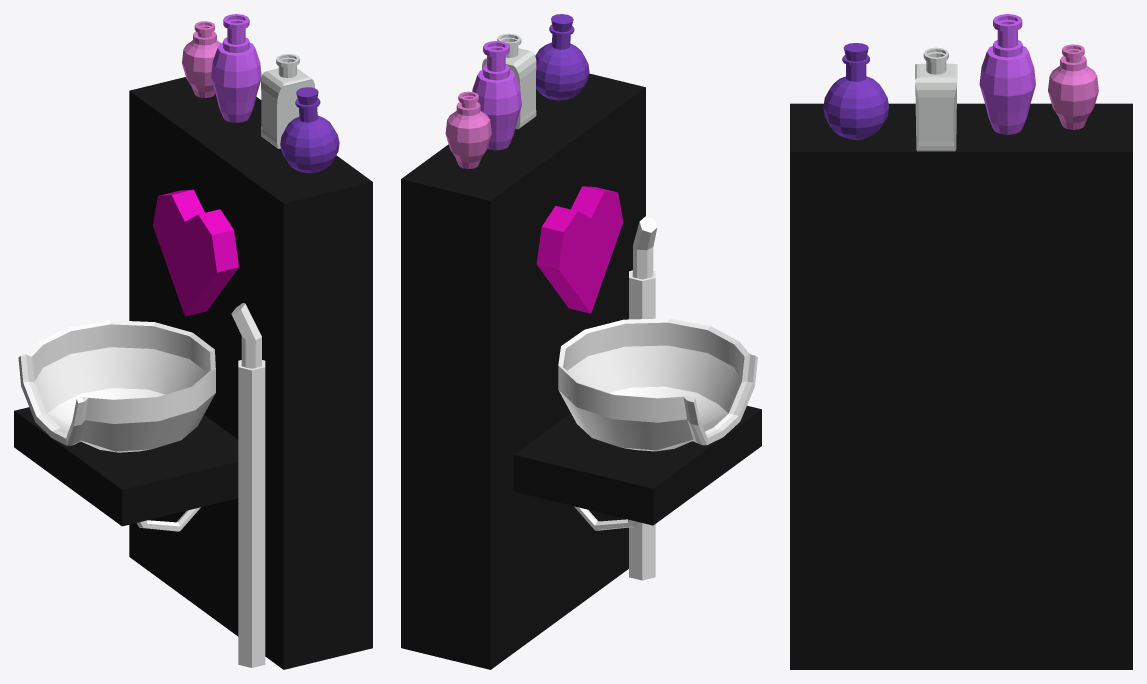
Rendered from MESA SHAMPOO.fbx.
The picture shows the model from 3 angles, left to right: view 1: azimuth 30°, elevation 25°; view 2: azimuth 150°, elevation 25°; view 3: azimuth 270°, elevation 25°; orthographic projection. The views are drawn at different scales.
Parts seen in each view (by area): view 1: PUESTO_DE_SHAMPOO, CORAZONES, BOTELLA 2, BOTELLA 4, BOTELLA 3, BOTELA 1; view 2: PUESTO_DE_SHAMPOO, CORAZONES, BOTELLA 2, BOTELLA 4, BOTELA 1, BOTELLA 3; view 3: PUESTO_DE_SHAMPOO, BOTELLA 2, BOTELLA 4, BOTELLA 3, BOTELA 1.
Part boxes in pixels (x1,y1,x2,y2): PUESTO_DE_SHAMPOO: (14, 77, 372, 669); CORAZONES: (153, 189, 238, 316); BOTELLA 2: (211, 14, 261, 122); BOTELLA 4: (280, 87, 339, 173); BOTELLA 3: (261, 54, 314, 148); BOTELA 1: (182, 21, 220, 98); PUESTO_DE_SHAMPOO: (401, 73, 761, 669); CORAZONES: (536, 186, 623, 313); BOTELLA 2: (472, 41, 521, 150); BOTELLA 4: (535, 14, 589, 100); BOTELA 1: (445, 91, 491, 168); BOTELLA 3: (482, 33, 536, 129); PUESTO_DE_SHAMPOO: (790, 103, 1132, 669); BOTELLA 2: (979, 14, 1035, 134); BOTELLA 4: (823, 43, 889, 139); BOTELLA 3: (915, 47, 957, 151); BOTELA 1: (1048, 44, 1098, 129).
Size of the model in its own units: 289 by 631 by 311.
